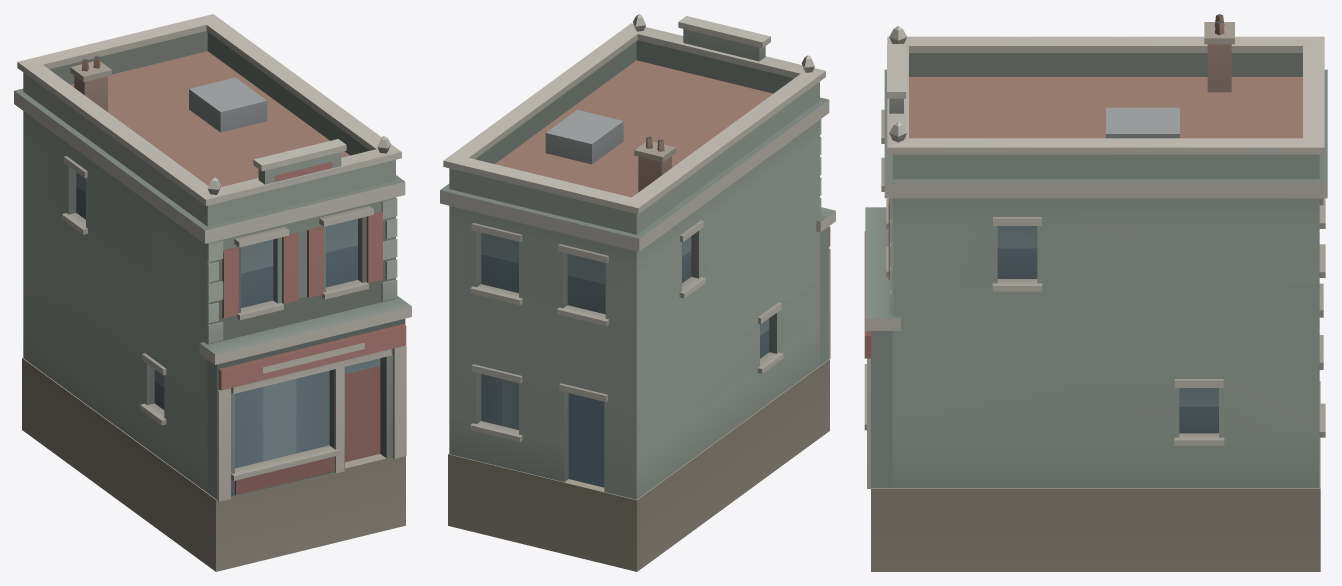
Rendered from terrace_b.lod1.glb.
3 views of the same model, side by side, from view 1: azimuth 30°, elevation 25°; view 2: azimuth 150°, elevation 25°; view 3: azimuth 270°, elevation 25° (orthographic). The views are drawn at different scales.
Size of the model in its own units: 4.72 by 8.94 by 8.16.
